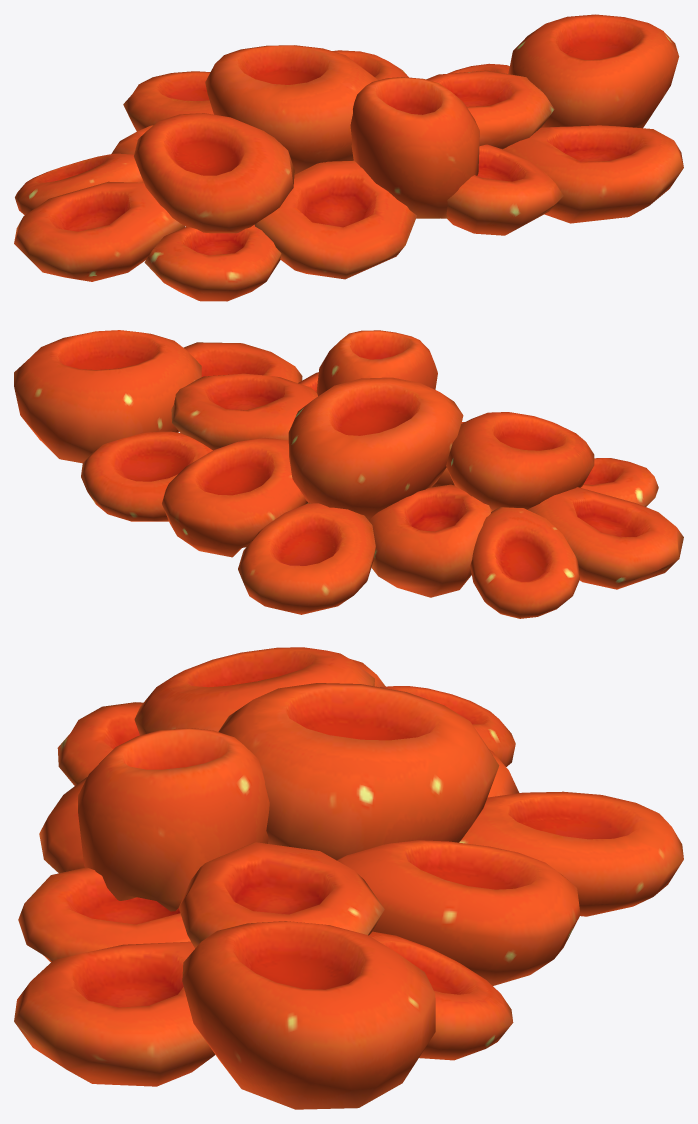
File: coral2.fbx
The picture shows the model from 3 angles, top to bottom: view 1: azimuth 30°, elevation 25°; view 2: azimuth 150°, elevation 25°; view 3: azimuth 270°, elevation 25°; orthographic projection. The views are drawn at different scales.
Parts seen in each view (by area): view 1: node_id102; view 2: node_id102; view 3: node_id102.
Boxes of the visible parts, x1=… form: node_id102: x1=14, y1=14, x2=683, y2=301; node_id102: x1=14, y1=330, x2=683, y2=618; node_id102: x1=14, y1=647, x2=683, y2=1109.
Size of the model in its own units: 0.512 by 0.1086 by 0.3238.
1 material, 1 textured.
